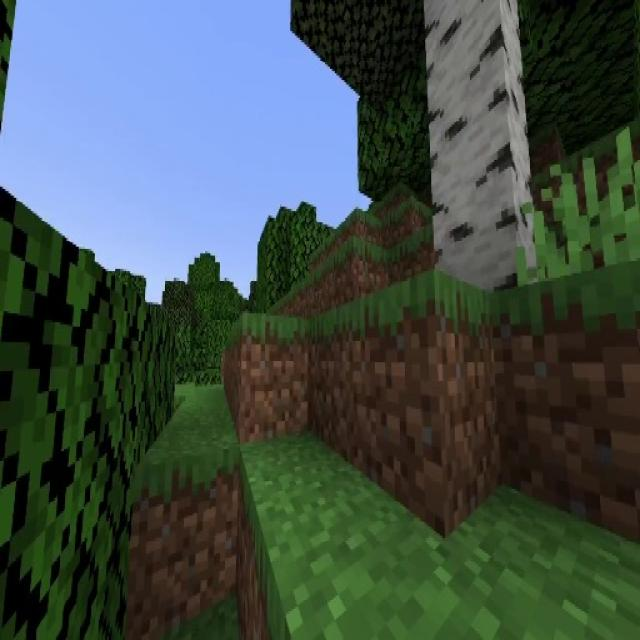birch_log: (425, 0, 537, 284)
